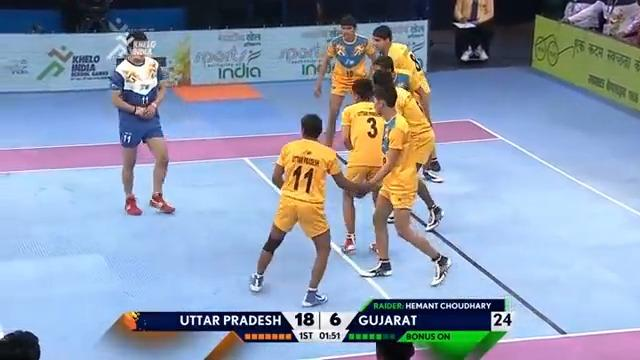Player: (248, 112, 371, 307), (358, 82, 452, 286), (368, 25, 442, 182), (339, 77, 388, 255), (312, 15, 377, 148)
Raider: (110, 30, 178, 215)
referee: (560, 0, 639, 46), (451, 0, 494, 62), (63, 0, 128, 33), (0, 329, 40, 359)
